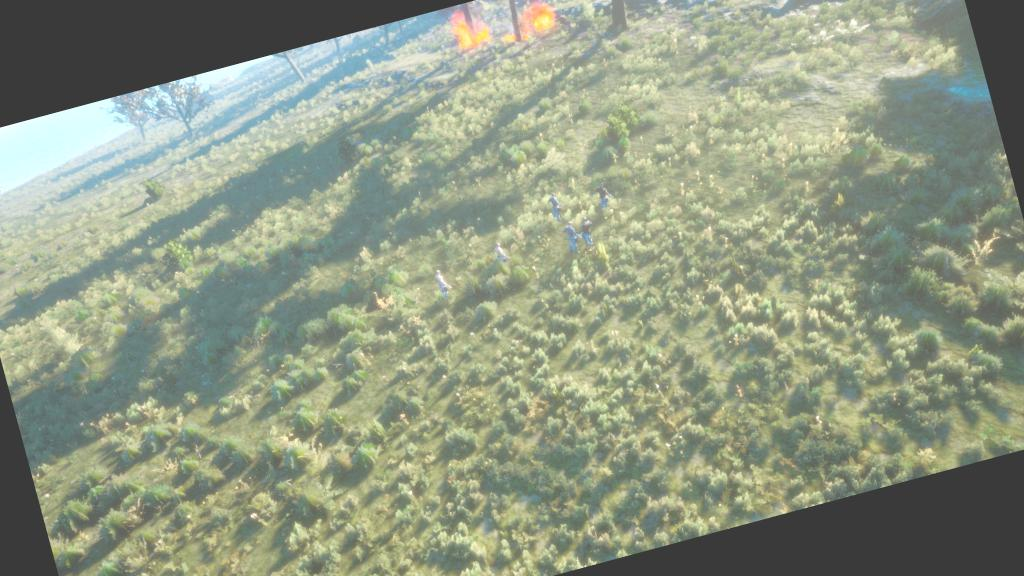Fire: (492, 0, 586, 58), (443, 0, 500, 58)
human: (481, 230, 525, 280), (583, 171, 626, 220), (574, 210, 606, 256), (537, 182, 572, 224), (430, 267, 464, 305), (558, 217, 586, 258)
